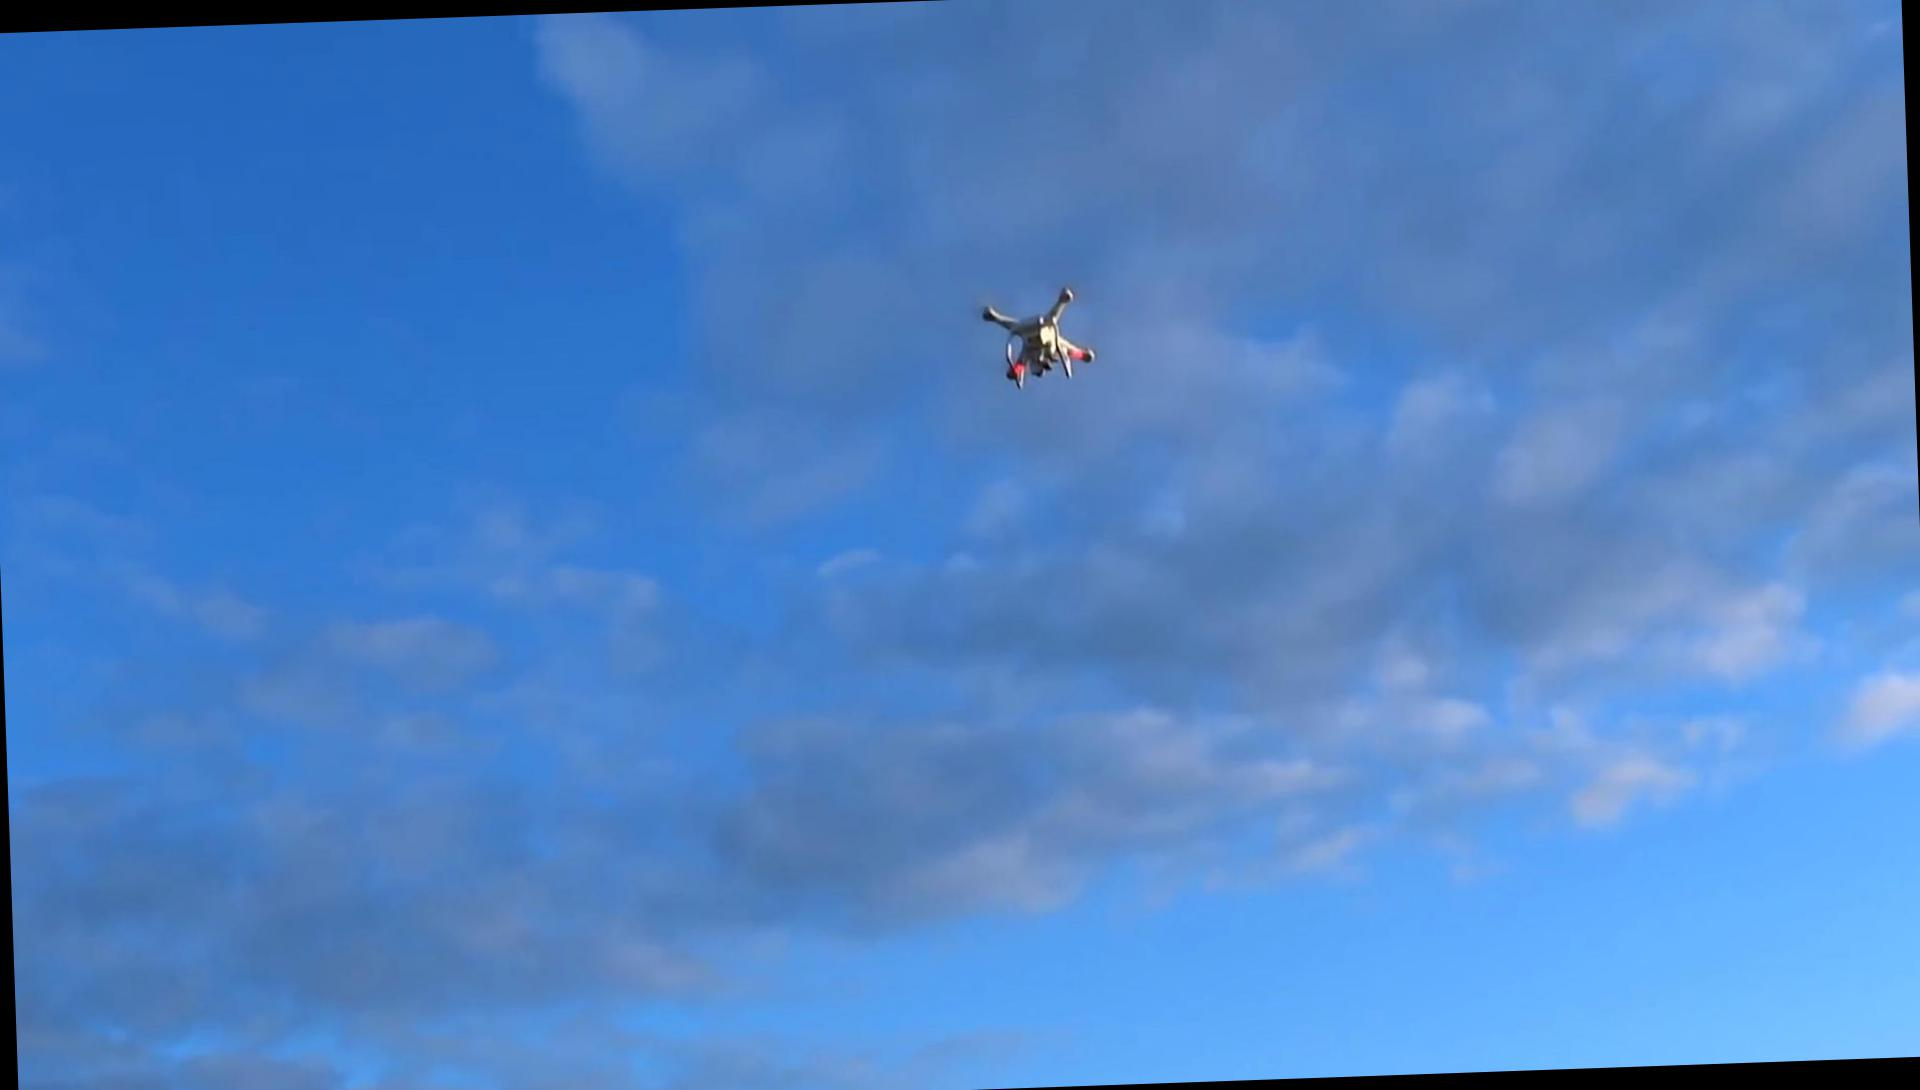drone: (969, 275, 1102, 387)
